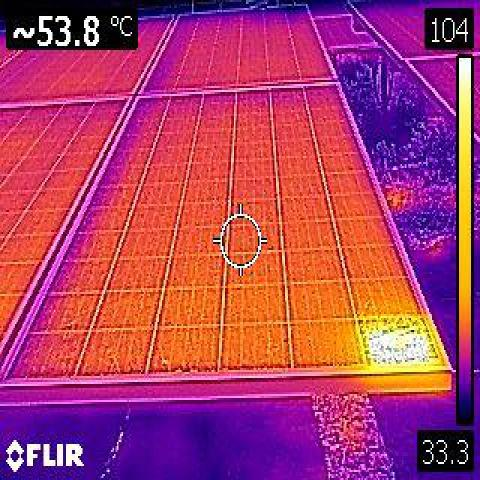fault: (359, 314, 443, 369)
